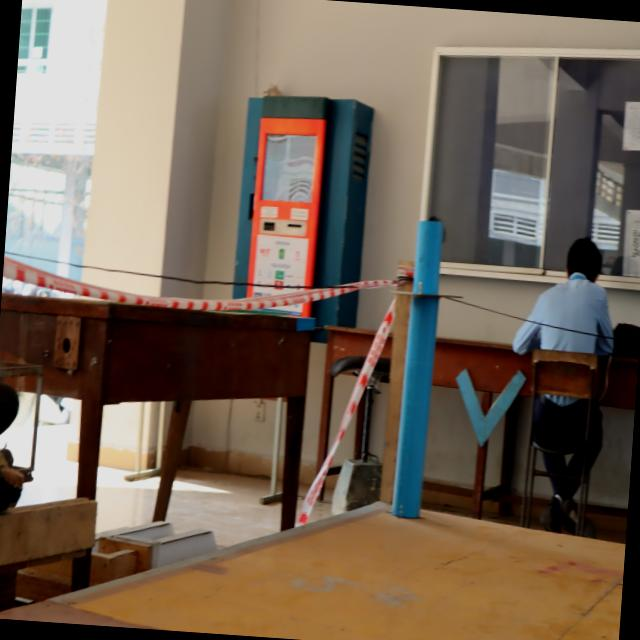pole: (382, 212, 470, 374)
